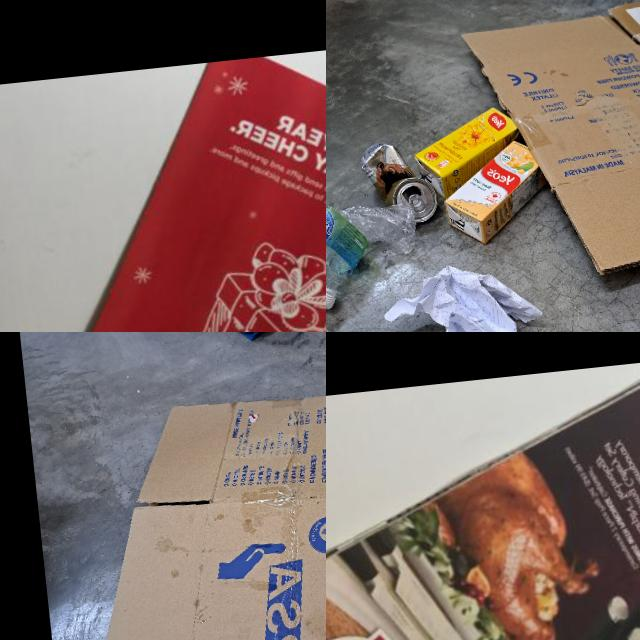aba de lata: (404, 190, 428, 222)
caixinha: (442, 136, 548, 246), (411, 105, 518, 196)
garrafa plástica: (326, 192, 422, 313)
lata: (358, 132, 436, 232)
papel: (0, 30, 326, 332), (326, 334, 640, 640), (378, 257, 550, 332)
papelão: (44, 377, 326, 640), (458, 0, 640, 288)
tampa plástica: (326, 279, 339, 310)
